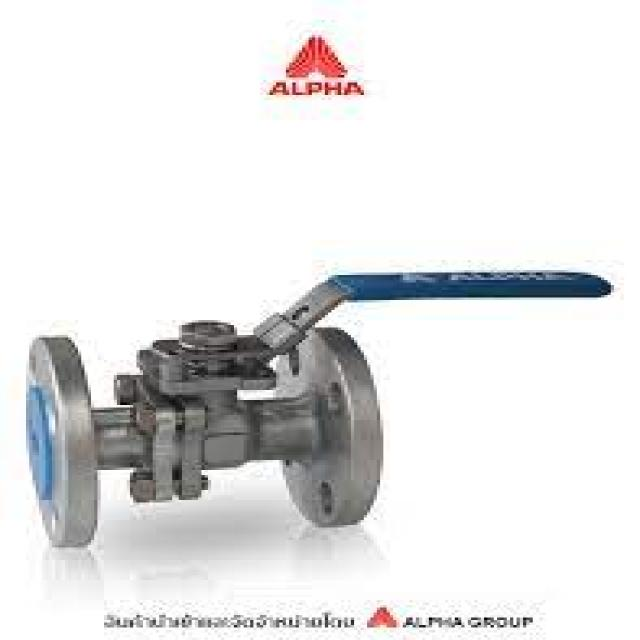Lever Handle Valve Threaded: (7, 230, 629, 368)
